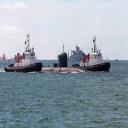submarine: (41, 56, 93, 73)
